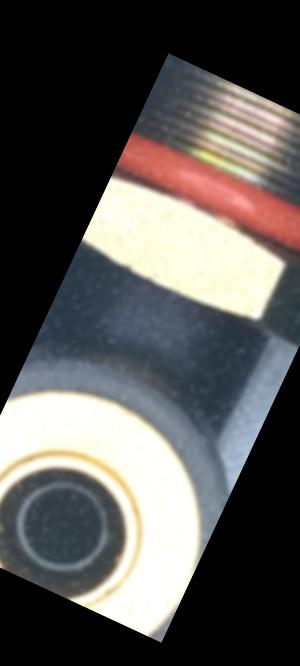joint line: (134, 287, 175, 360)
